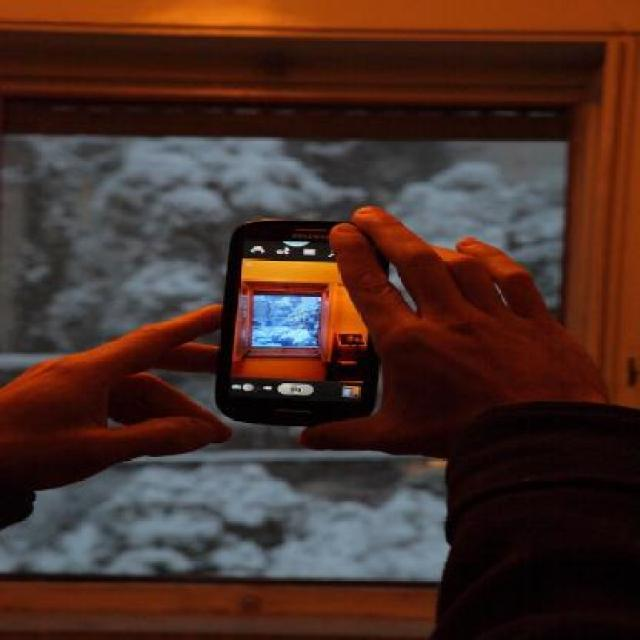phone: (215, 212, 387, 426)
